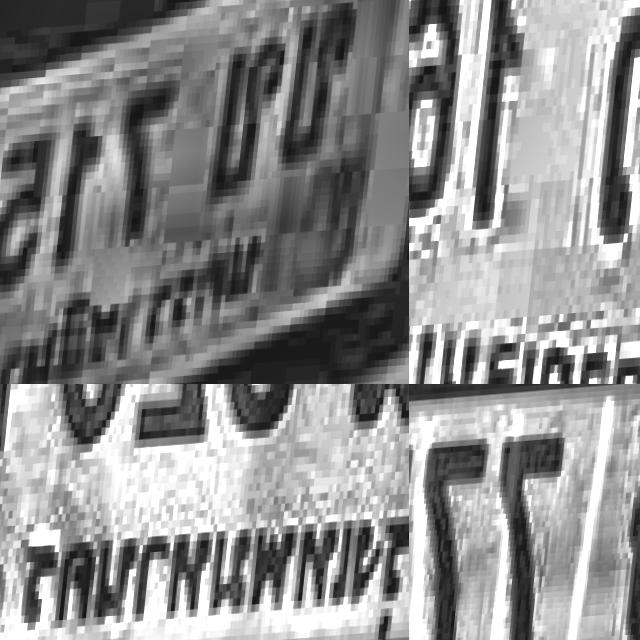license-plate: (0, 0, 409, 384), (0, 384, 409, 640), (409, 0, 640, 384), (409, 384, 640, 640)
